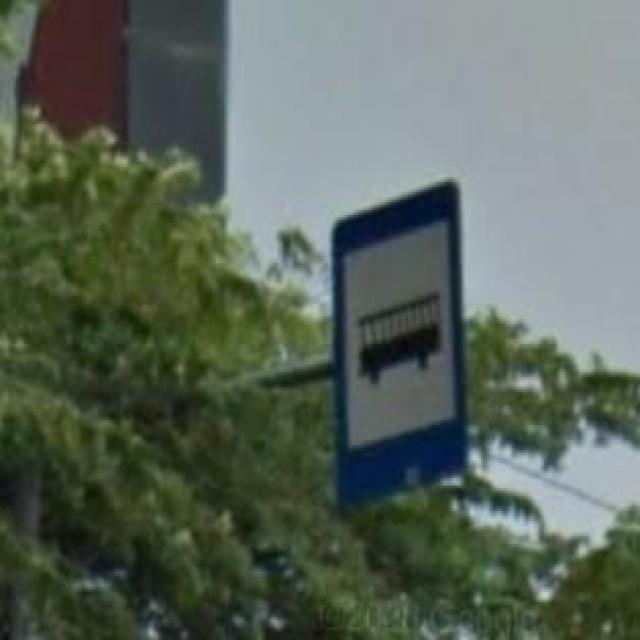traffic sign: (330, 177, 468, 511)
